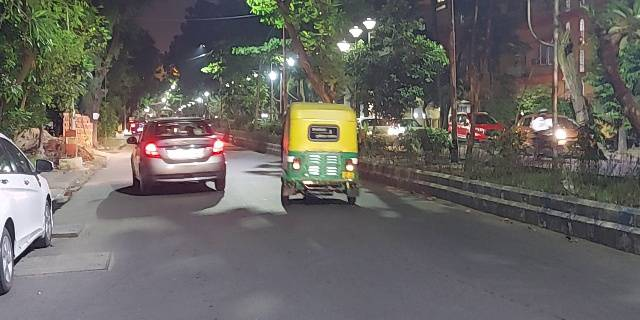Autorickshaw: (278, 102, 358, 204)
Car: (131, 118, 226, 192)
